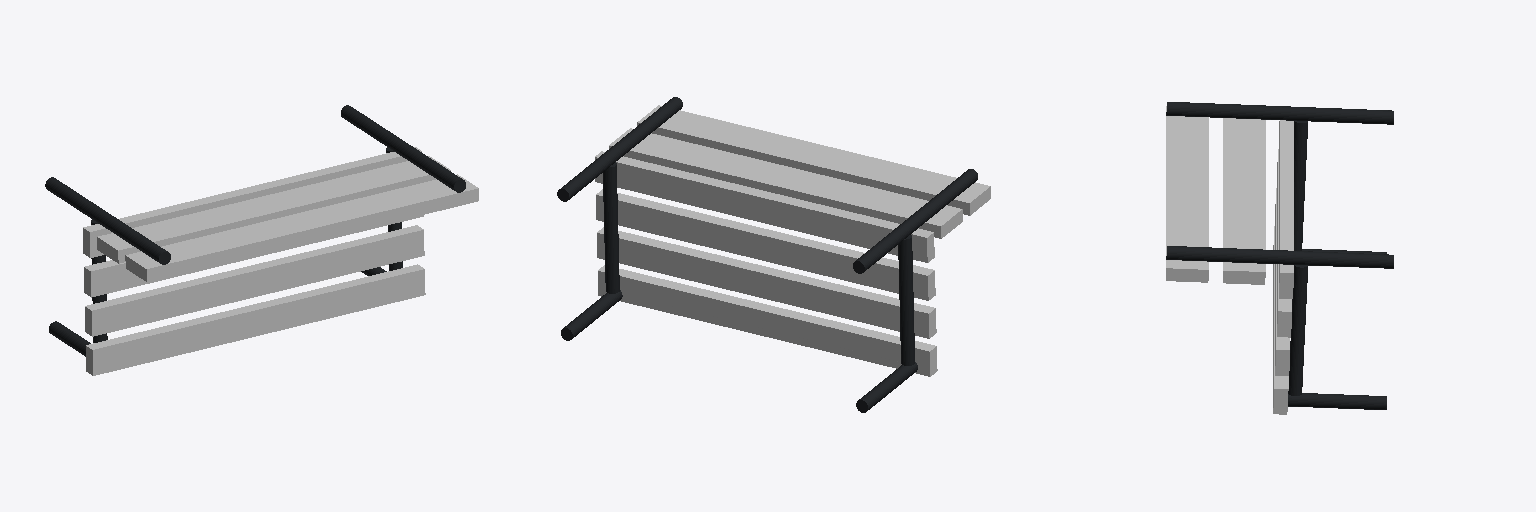
Rendered from bench.obj.
3 renders of one model, left to right at view 1: azimuth 30°, elevation 25°; view 2: azimuth 150°, elevation 25°; view 3: azimuth 270°, elevation 25°, orthographic.
Parts seen in each view (by area): view 1: obj_0; view 2: obj_0; view 3: obj_0.
Boxes of the visible parts, x1=… form: obj_0: x1=45, y1=105, x2=478, y2=375; obj_0: x1=557, y1=97, x2=990, y2=412; obj_0: x1=1166, y1=102, x2=1393, y2=414.
Bounding box in the file's own units: 27 × 12.69 × 16.07.